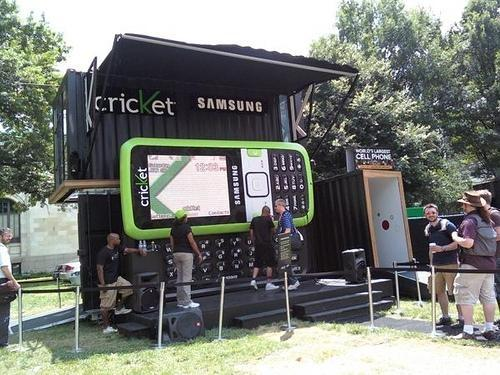car: (52, 260, 81, 288)
